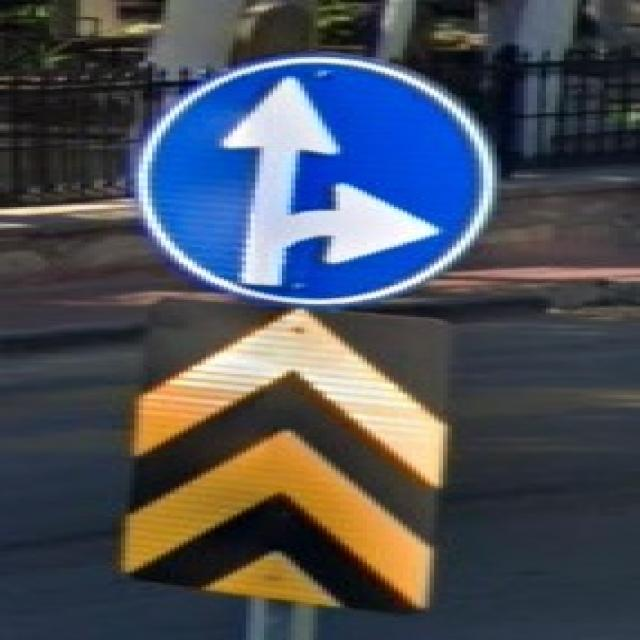Straight or Right: (135, 58, 480, 307)
